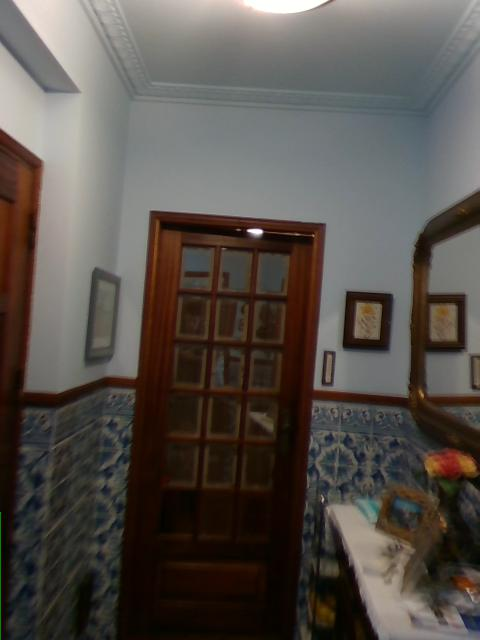door: (114, 210, 328, 638)
